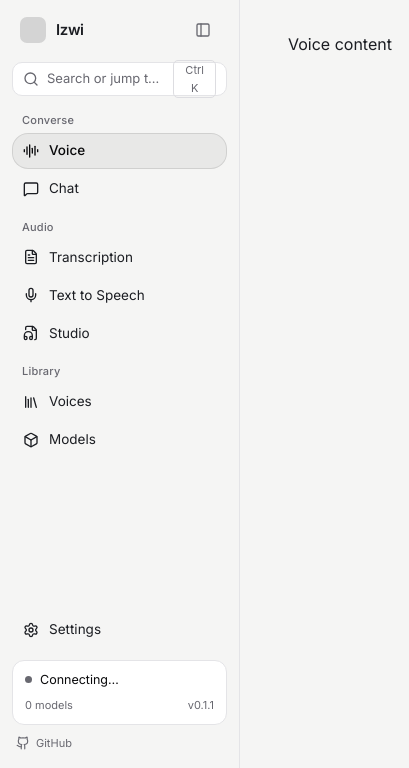
AppLayout compact navigation accessibility › keeps desktop navigation operable and exposes collapse state
Expected: the links read "Transcription", "Text to Speech", "Studio", in this order, [23,249,133,265]; [23,287,145,303]; [23,325,90,341]
Click the button with test id "sidebar-collapse-toggle" at (203, 30), box [187,14,219,46]
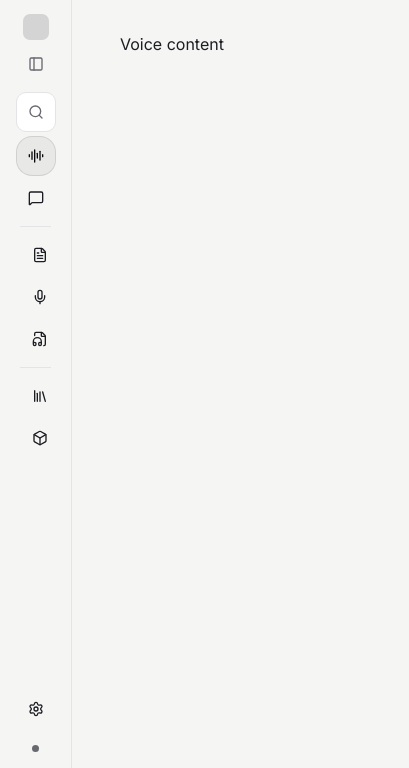
Expected: the button with test id "sidebar-collapse-toggle" is collapsed, [20,48,52,80]
